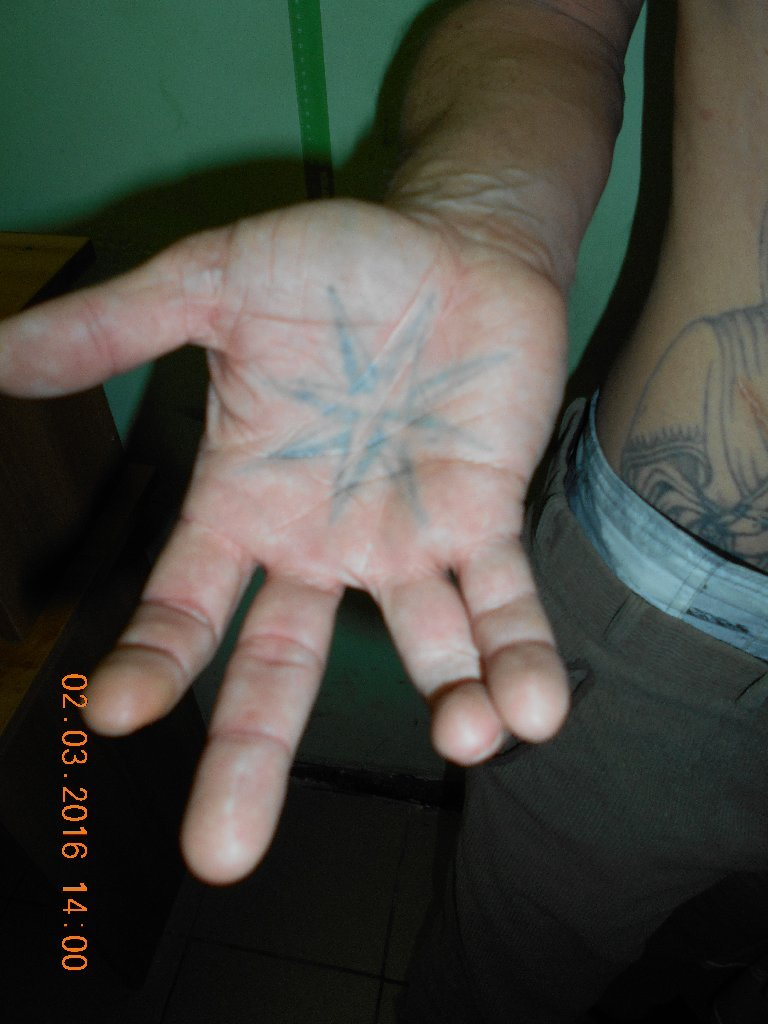tatu4_zvezda: (257, 286, 514, 545)
